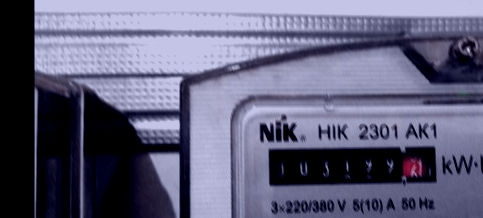0: (295, 159, 306, 178), (272, 160, 281, 178)
1: (339, 156, 348, 174)
3: (317, 159, 327, 179)
6: (405, 164, 415, 178)
9: (360, 155, 370, 175), (382, 157, 392, 175)
screen: (258, 139, 440, 193)
